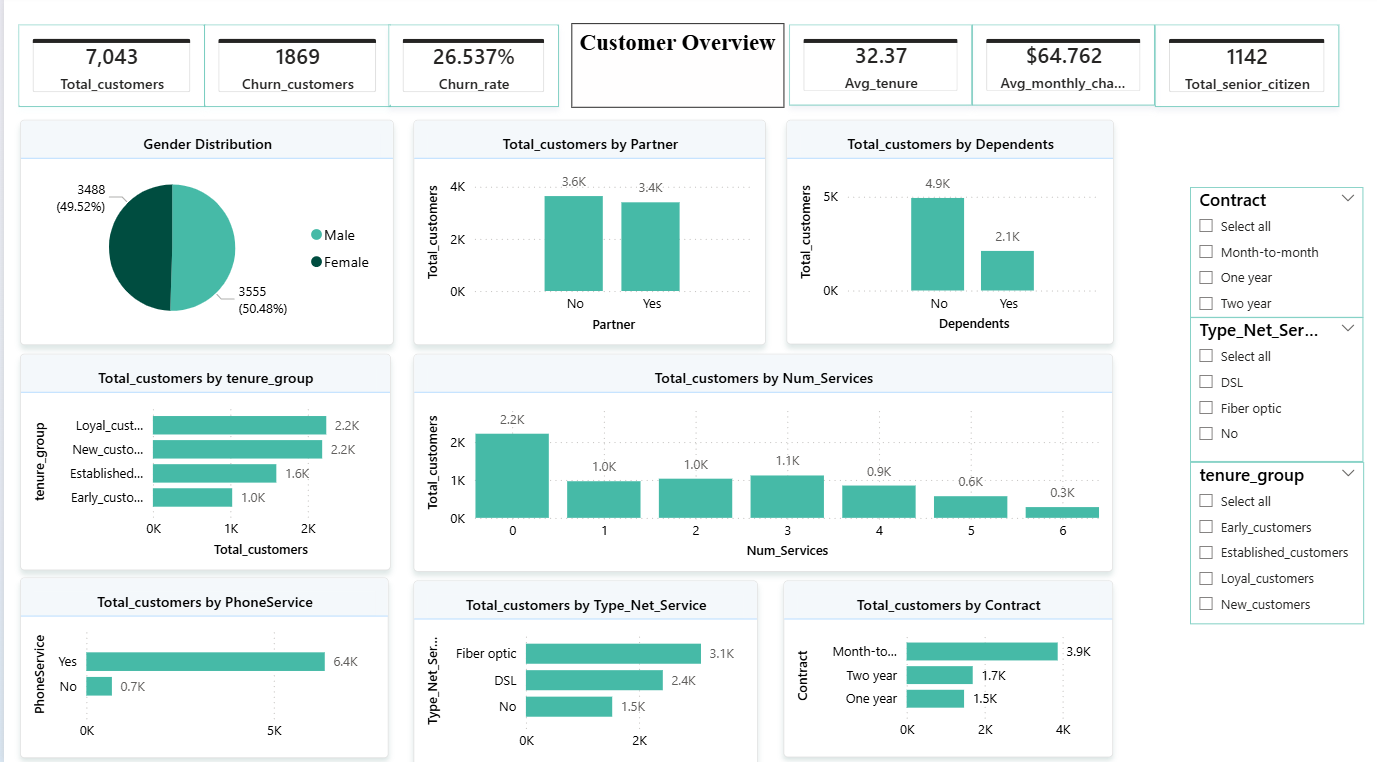

Layout of this report page (visuals, bound fields, positions):
{"tool":"powerbi","page":{"name":"Descriptive","canvas":[1280,720],"ordinal":1},"visuals":[{"type":"cardVisual","fields":{"Data":["Customers_churn_dataset.Total_customers"]},"box":[13.3,28.3,173.3,76.7],"z":0},{"type":"cardVisual","fields":{"Data":["Customers_churn_dataset.Churn_customers"]},"box":[186.7,28.3,173.3,76.7],"z":1000},{"type":"cardVisual","fields":{"Data":["Customers_churn_dataset.Churn_rate"]},"box":[358.3,28.3,158.3,76.7],"z":2000},{"type":"pieChart","title":"Gender Distribution","fields":{"Category":["Customers_churn_dataset.gender"],"Y":["Customers_churn_dataset.Total_customers"]},"box":[15,116.7,348.3,210],"z":3000},{"type":"barChart","fields":{"Category":["Customers_churn_dataset.tenure_group"],"Y":["Customers_churn_dataset.Total_customers"]},"box":[15,335,345,201.7],"z":4000},{"type":"barChart","fields":{"Category":["Customers_churn_dataset.PhoneService"],"Y":["Customers_churn_dataset.Total_customers"]},"box":[15,543.3,343.3,168.3],"z":5000},{"type":"cardVisual","fields":{"Data":["Customers_churn_dataset.Total_senior_citizen"]},"box":[1071.7,28.3,171.7,76.7],"z":6000},{"type":"barChart","fields":{"Category":["Customers_churn_dataset.InternetService"],"Y":["Customers_churn_dataset.Total_customers"]},"box":[381,546,320.6,174.6],"z":7000},{"type":"cardVisual","fields":{"Data":["Customers_churn_dataset.Avg_monthly_charge"]},"box":[901.4,28.6,170,75.2],"z":8000},{"type":"cardVisual","fields":{"Data":["Customers_churn_dataset.Avg_tenure"]},"box":[731.7,28.3,170,75],"z":9000},{"type":"barChart","fields":{"Category":["Customers_churn_dataset.Contract"],"Y":["Customers_churn_dataset.Total_customers"]},"box":[726.7,546.7,306.7,165],"z":10000},{"type":"columnChart","fields":{"Category":["Customers_churn_dataset.Partner"],"Y":["Customers_churn_dataset.Total_customers"]},"box":[381.7,116.7,328.3,210],"z":11000},{"type":"columnChart","fields":{"Category":["Customers_churn_dataset.Dependents"],"Y":["Customers_churn_dataset.Total_customers"]},"box":[728.6,117.5,304.8,209.5],"z":12000},{"type":"columnChart","fields":{"Category":["Customers_churn_dataset.Num_Services"],"Y":["Customers_churn_dataset.Total_customers"]},"box":[381.7,335,651.7,203.3],"z":13000},{"type":"slicer","fields":{"Values":["Customers_churn_dataset.Contract"]},"box":[1104.4,179.7,161.7,121.7],"z":14000},{"type":"slicer","fields":{"Values":["Customers_churn_dataset.Type_Net_Service"]},"box":[1104.4,301.3,161.7,135],"z":15000},{"type":"slicer","fields":{"Values":["Customers_churn_dataset.tenure_group"]},"box":[1104.8,436.5,161.9,150.8],"z":17000},{"type":"textbox","box":[528.3,26.7,198.3,78.3],"z":18000}]}

Visuals, with their boxes in screenshot pixels (x1, y1, x2, y2), scaled from the page's 1280x720 canvas onto the 1377x762 screenshot:
cardVisual - Customers_churn_dataset.Total_customers: BBox(14, 30, 201, 111)
cardVisual - Customers_churn_dataset.Churn_customers: BBox(201, 30, 387, 111)
cardVisual - Customers_churn_dataset.Churn_rate: BBox(385, 30, 556, 111)
"Gender Distribution" pieChart: BBox(16, 124, 391, 346)
barChart - Customers_churn_dataset.tenure_group x Customers_churn_dataset.Total_customers: BBox(16, 355, 387, 568)
barChart - Customers_churn_dataset.PhoneService x Customers_churn_dataset.Total_customers: BBox(16, 575, 385, 753)
cardVisual - Customers_churn_dataset.Total_senior_citizen: BBox(1153, 30, 1338, 111)
barChart - Customers_churn_dataset.InternetService x Customers_churn_dataset.Total_customers: BBox(410, 578, 755, 761)
cardVisual - Customers_churn_dataset.Avg_monthly_charge: BBox(970, 30, 1153, 110)
cardVisual - Customers_churn_dataset.Avg_tenure: BBox(787, 30, 970, 109)
barChart - Customers_churn_dataset.Contract x Customers_churn_dataset.Total_customers: BBox(782, 579, 1112, 753)
columnChart - Customers_churn_dataset.Partner x Customers_churn_dataset.Total_customers: BBox(411, 124, 764, 346)
columnChart - Customers_churn_dataset.Dependents x Customers_churn_dataset.Total_customers: BBox(784, 124, 1112, 346)
columnChart - Customers_churn_dataset.Num_Services x Customers_churn_dataset.Total_customers: BBox(411, 355, 1112, 570)
slicer - Customers_churn_dataset.Contract: BBox(1188, 190, 1362, 319)
slicer - Customers_churn_dataset.Type_Net_Service: BBox(1188, 319, 1362, 462)
slicer - Customers_churn_dataset.tenure_group: BBox(1189, 462, 1363, 622)
textbox: BBox(568, 28, 782, 111)
